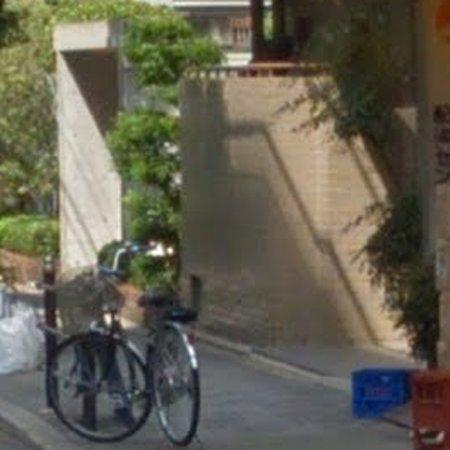bicycles: (46, 243, 201, 446)
